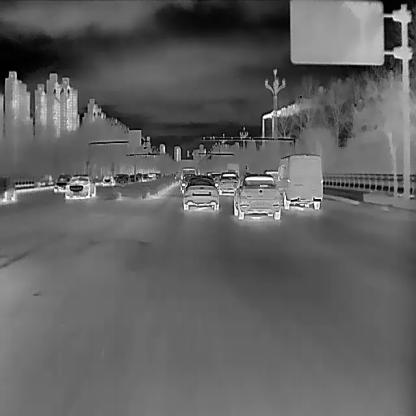car: (276, 154, 322, 210), (233, 174, 280, 218), (182, 176, 218, 212), (65, 174, 94, 198), (214, 171, 240, 195), (0, 174, 15, 203), (179, 166, 195, 189), (55, 173, 72, 193), (114, 173, 129, 189), (209, 172, 222, 188), (101, 173, 113, 187)
